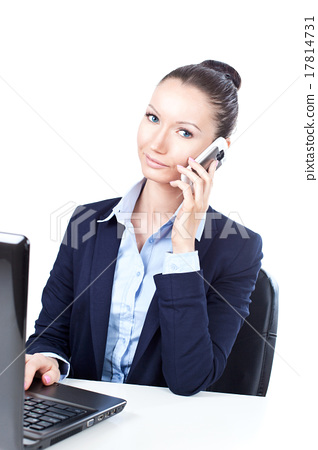phone: (175, 139, 233, 185)
talk: (136, 105, 239, 231)
